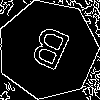B: (23, 24, 73, 81)
